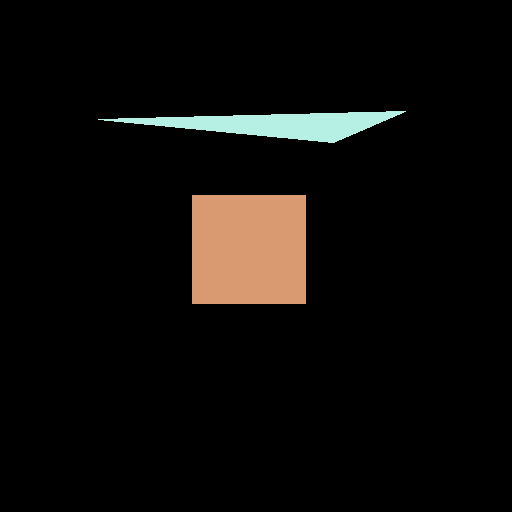square: (192, 195, 305, 303)
triangle: (98, 111, 405, 142)
